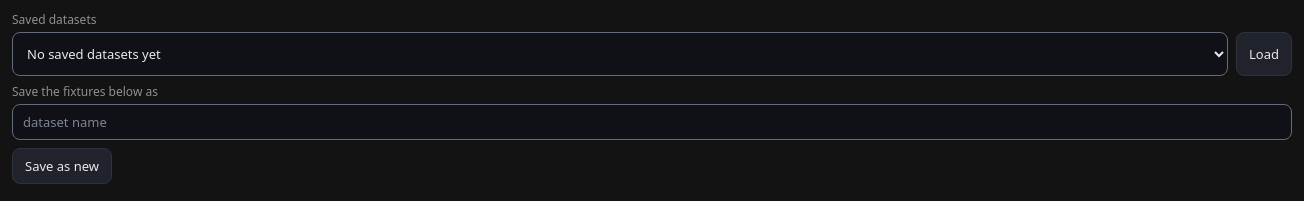
DatasetPicker › saves the editor's fixtures as a new dataset
expect the dropdown named "Saved dataset" is shown: met, box left=12, top=32, right=1228, bottom=76
In the field labelled "dataset name": (652, 122) left=12, top=104, right=1292, bottom=140, type "  Fresh  "
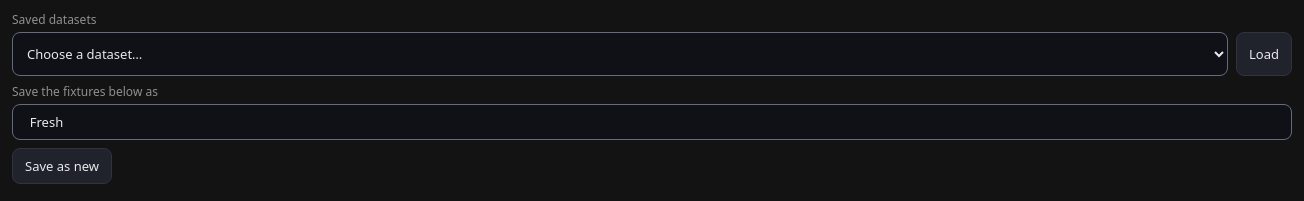
Click the button "Save as new": (62, 166) left=12, top=148, right=112, bottom=184
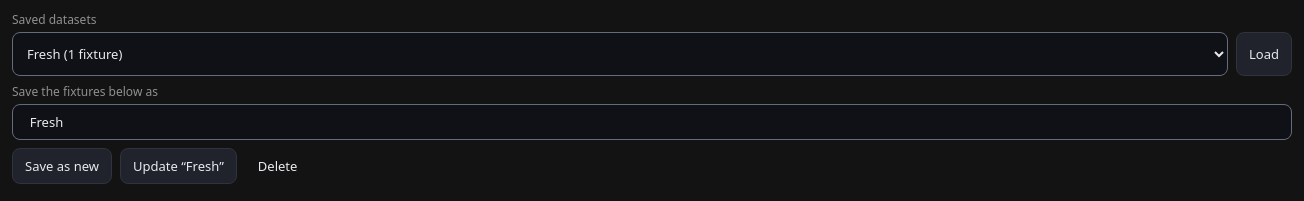
expect the button "Update “Fresh”" is shown: met, box left=120, top=148, right=237, bottom=184
